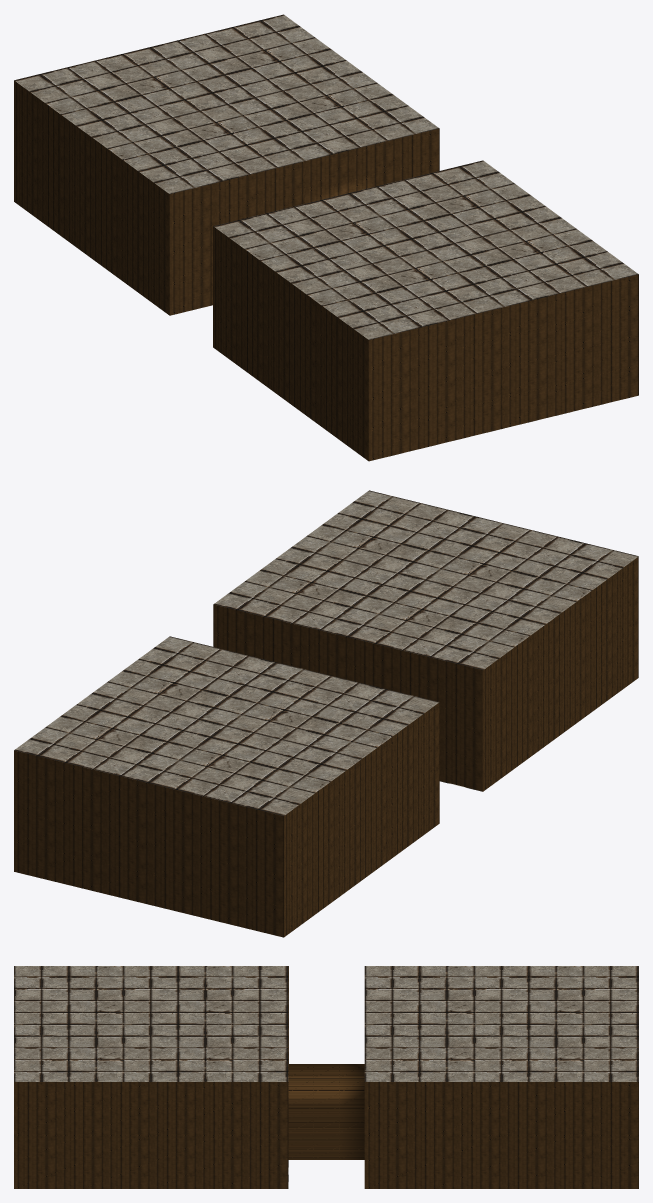
Rendered from house.glb.
3 renders of one model, top to bottom at view 1: azimuth 30°, elevation 25°; view 2: azimuth 150°, elevation 25°; view 3: azimuth 270°, elevation 25°, orthographic. The views are drawn at different scales.
Visible parts, largest first — view 1: ceiling, ceiling.001, wall4.004, wall4.001, wall4.006, wall4.002; view 2: ceiling.001, ceiling, wall4, wall4.006, wall4.001, wall4.007; view 3: ceiling, ceiling.001, wall4.003, wall4.005, wall4.002.
Part boxes in pixels (x1,y1,x2,y2): ceiling: (14, 14, 439, 194); ceiling.001: (213, 160, 638, 339); wall4.004: (368, 274, 638, 461); wall4.001: (14, 80, 169, 315); wall4.006: (213, 226, 368, 460); wall4.002: (169, 128, 439, 315); ceiling.001: (213, 490, 638, 669); ceiling: (14, 636, 439, 815); wall4: (14, 750, 283, 937); wall4.006: (482, 557, 638, 791); wall4.001: (284, 702, 439, 937); wall4.007: (213, 604, 482, 791); ceiling: (364, 966, 638, 1081); ceiling.001: (14, 966, 288, 1081); wall4.003: (364, 1082, 638, 1188); wall4.005: (14, 1082, 288, 1188); wall4.002: (288, 1064, 364, 1159).
Size of the model in its own units: 10.7 by 4.63 by 24.38.
14 materials, 14 textured.
